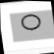no answer: (16, 11, 45, 34)
